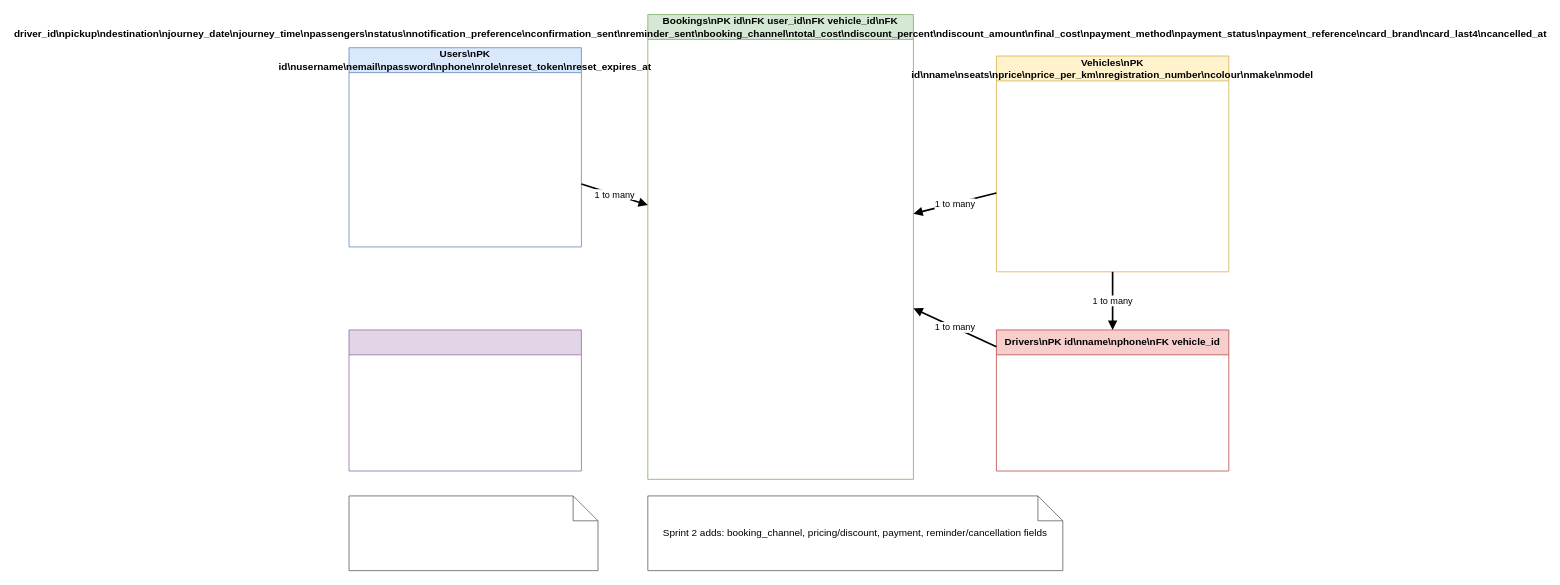
This 1560x585 diagram has some shape labels left out. The centre of each missing label's shape, as x and y in pixels:
"Admin and Customer are represented by users.role" goes at pixel 473 533.
"Enquiries\nPK id\nname\nemail\nmessage" goes at pixel 464 400.
